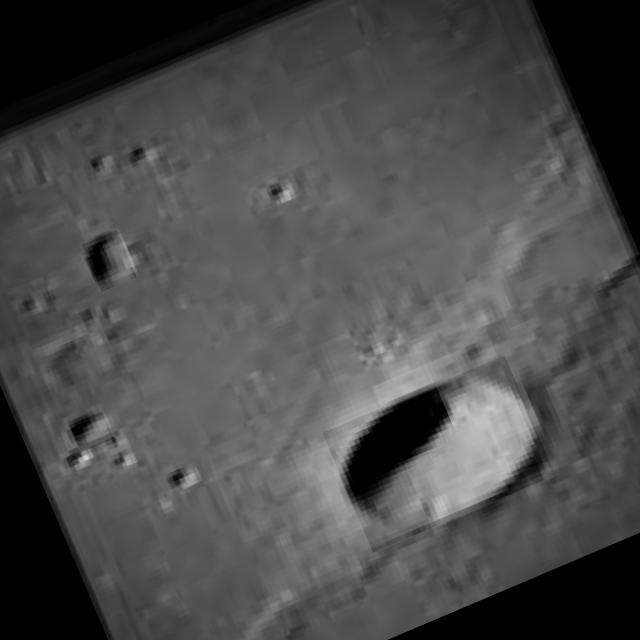crater: (322, 354, 555, 552), (82, 229, 136, 291), (69, 411, 114, 452)
